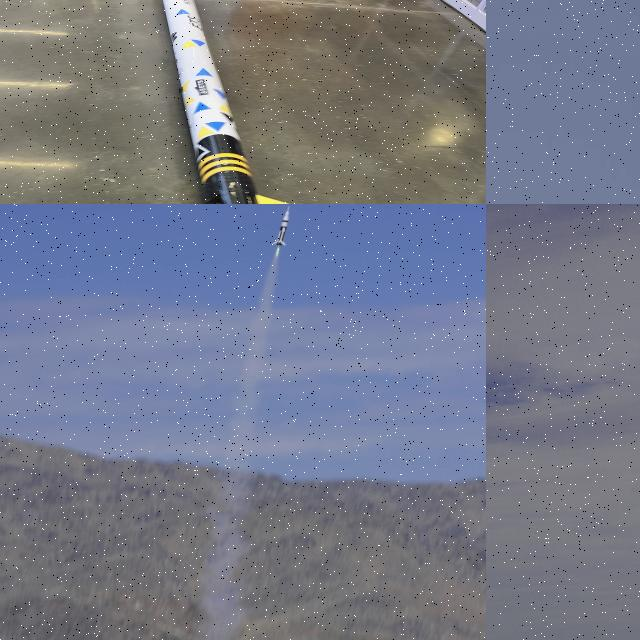Rocket: (161, 0, 294, 204), (272, 205, 290, 246)
